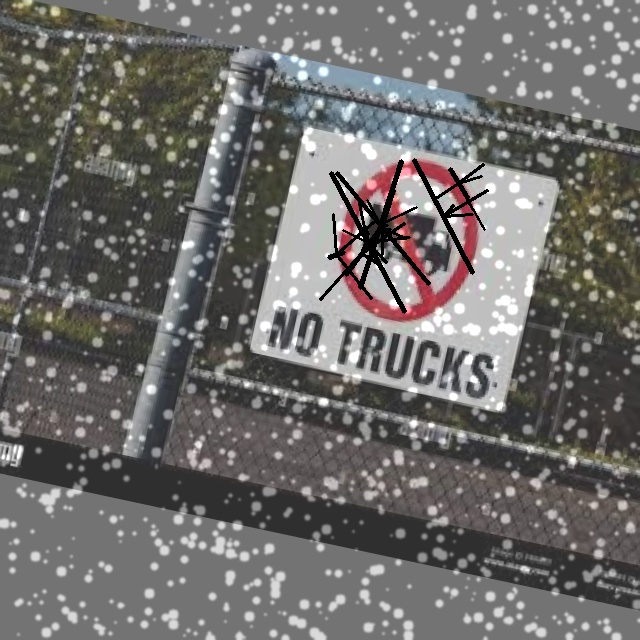Truck_Prohibited: (317, 141, 499, 340)
